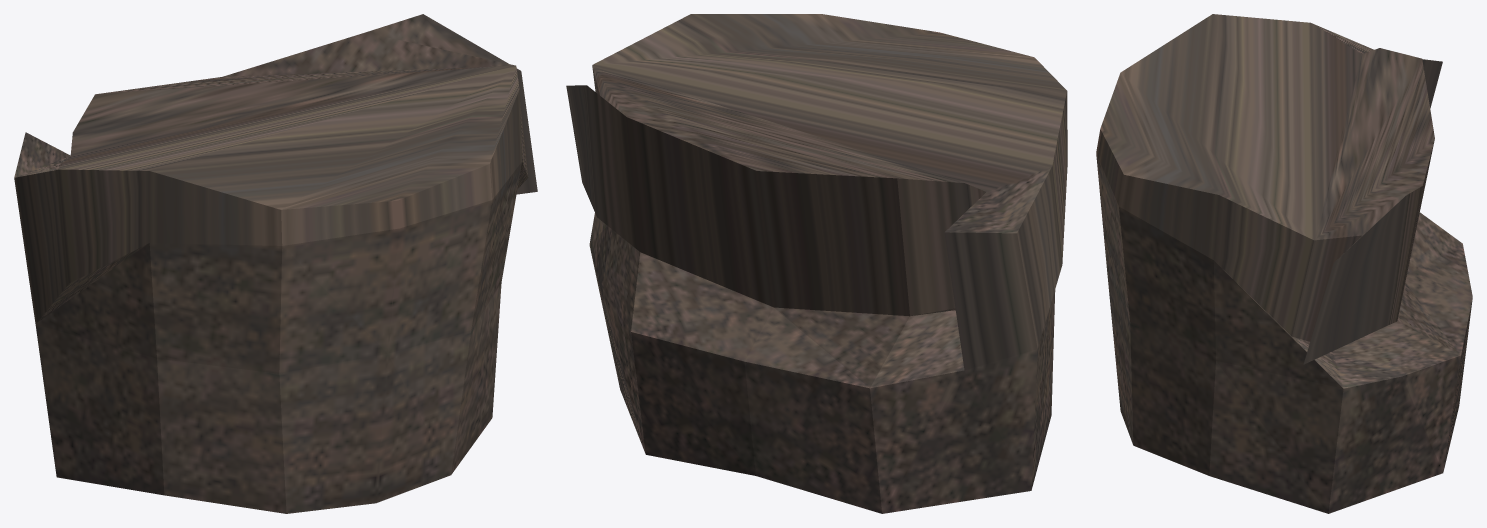
The model's file is trompa1.obj.
The picture shows the model from 3 angles, left to right: view 1: azimuth 30°, elevation 25°; view 2: azimuth 150°, elevation 25°; view 3: azimuth 270°, elevation 25°; orthographic projection. The views are drawn at different scales.
Parts seen in each view (by area): view 1: pasted__polySurface1 pasted__Elephant group; view 2: pasted__polySurface1 pasted__Elephant group; view 3: pasted__polySurface1 pasted__Elephant group.
Boxes of the visible parts, x1,y1,x2,y2 form: pasted__polySurface1 pasted__Elephant group: (14,14,537,513); pasted__polySurface1 pasted__Elephant group: (566,14,1067,513); pasted__polySurface1 pasted__Elephant group: (1096,14,1472,513).
Bounding box in the file's own units: 2.36 × 1.63 × 1.72.
Materials: 1 (1 with a texture image).
